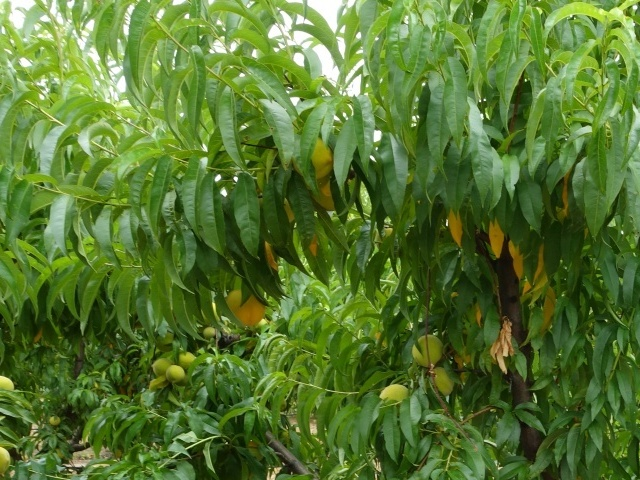peach: (220, 287, 269, 328), (300, 137, 339, 181), (410, 332, 446, 374), (426, 362, 460, 399), (376, 380, 412, 410), (146, 354, 173, 380), (173, 348, 198, 370), (161, 365, 187, 386)
